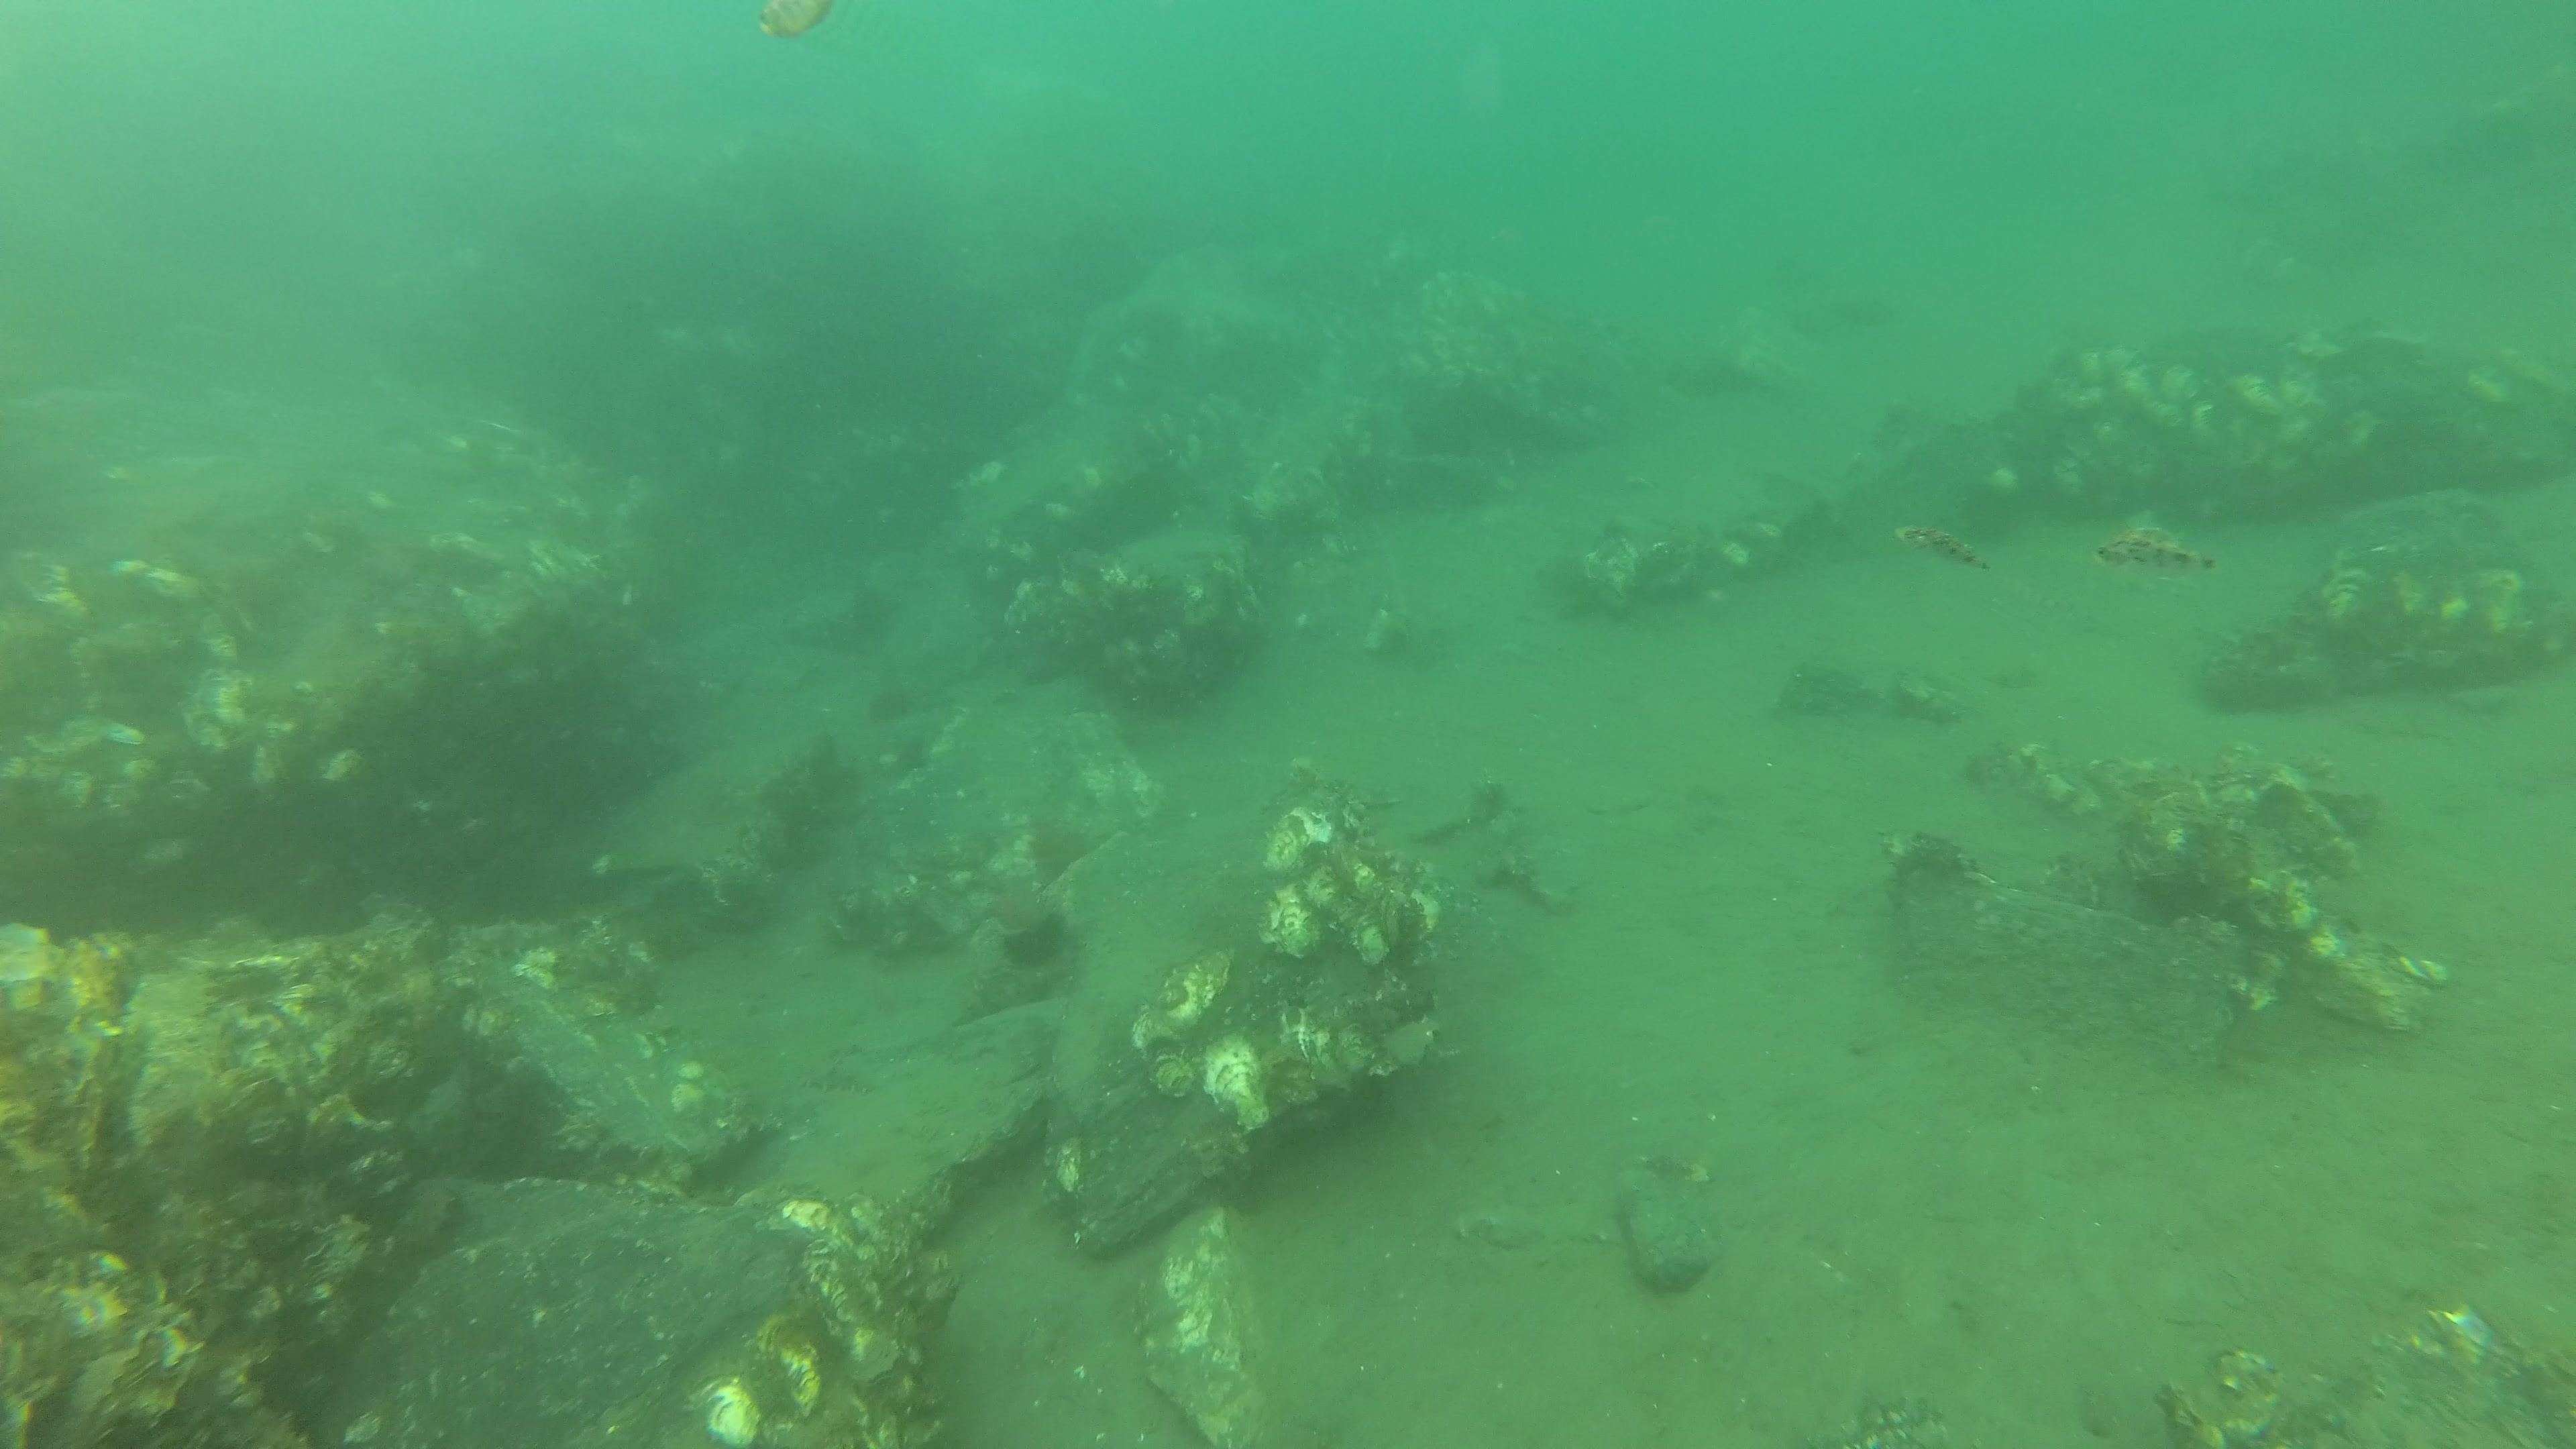echinus: (1003, 911, 1065, 973)
